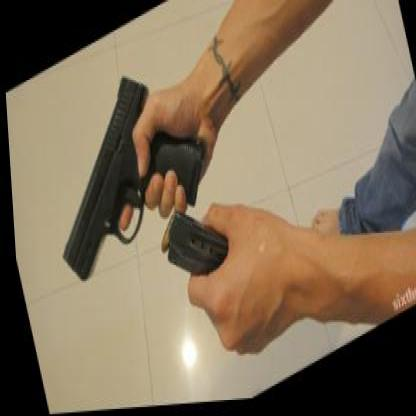pistol: (30, 37, 218, 287)
